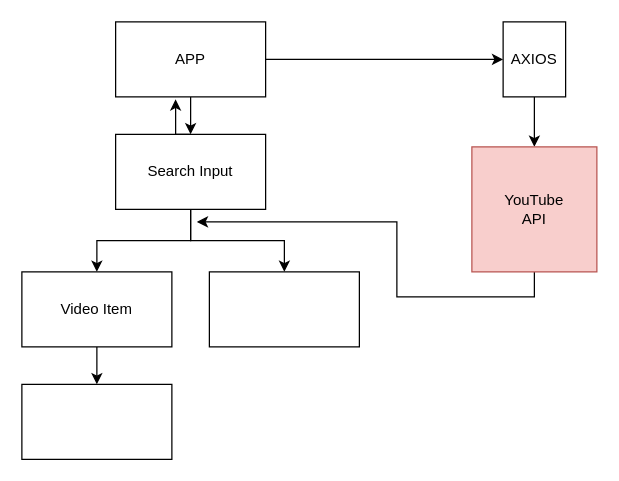
Image size: 619x481. Some labels were removed from this diagram. The shapes that lost their labels are listed below. From the top down, each one's box as (x1, y1, x2, y2) in pixels, then its label:
(208, 271, 359, 347): Video List
(21, 383, 172, 459): Video Detail
